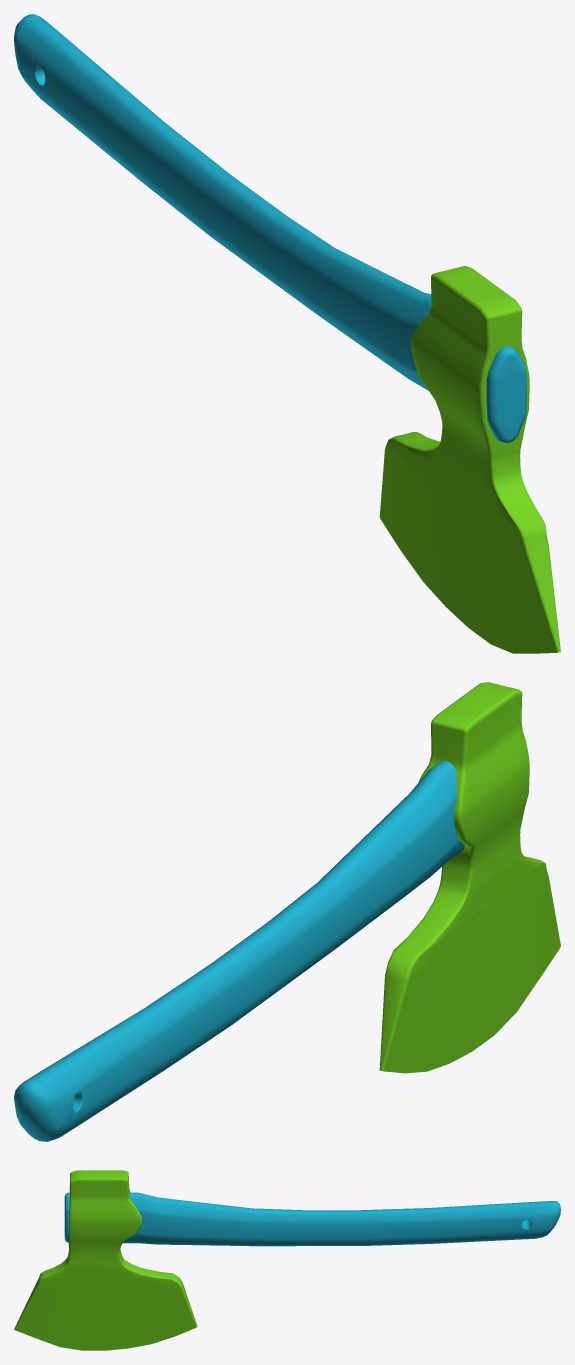
File: AXE_L.fbx
3 views of the same model, one above another, from view 1: azimuth 30°, elevation 25°; view 2: azimuth 150°, elevation 25°; view 3: azimuth 270°, elevation 25° (orthographic). The views are drawn at different scales.
Parts seen in each view (by area): view 1: AXE_L; view 2: AXE_L; view 3: AXE_L.
Part boxes in pixels (x1,y1,x2,y2): AXE_L: (14, 14, 560, 653); AXE_L: (14, 682, 560, 1141); AXE_L: (14, 1170, 560, 1350).
Size of the model in its own units: 3.09 by 20.06 by 56.45.
